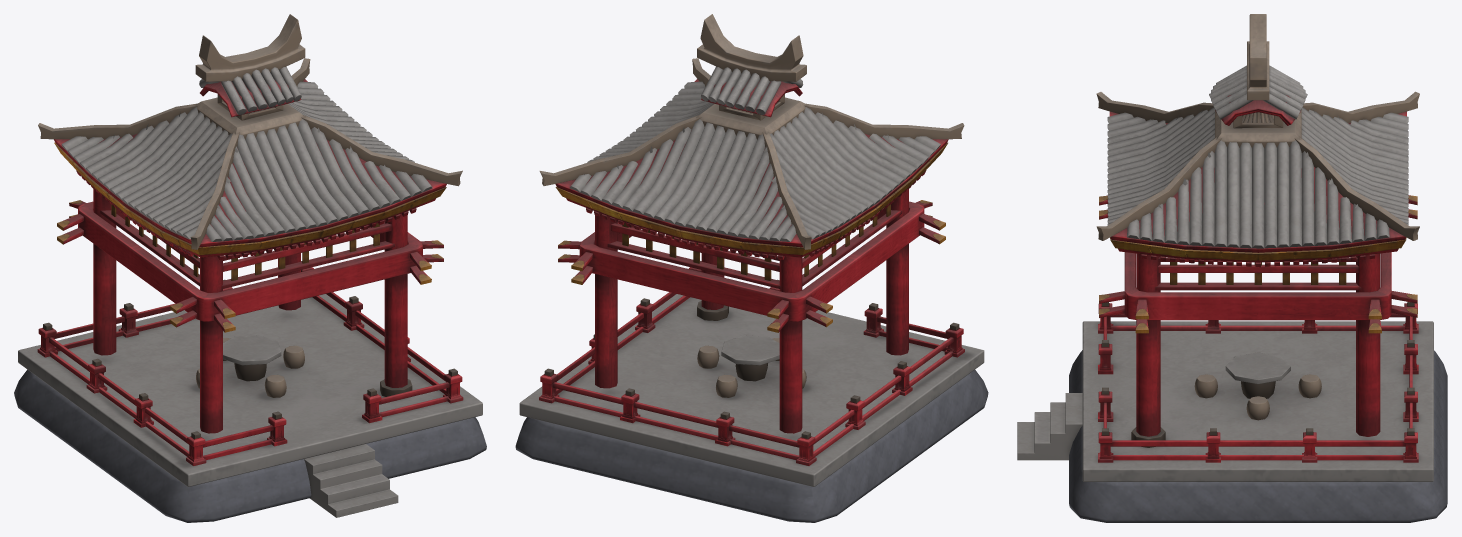
The model's file is pavilion_10.fbx.
The picture shows the model from 3 angles, left to right: view 1: azimuth 30°, elevation 25°; view 2: azimuth 150°, elevation 25°; view 3: azimuth 270°, elevation 25°; orthographic projection. The views are drawn at different scales.
Visible parts, largest first — view 1: liangting_10; view 2: liangting_10; view 3: liangting_10.
Part boxes in pixels (bbox=[...]): liangting_10: bbox=[14, 14, 486, 522]; liangting_10: bbox=[515, 14, 988, 522]; liangting_10: bbox=[1017, 14, 1447, 522].
Bounding box in the file's own units: 72.72 × 86.71 × 82.62.
